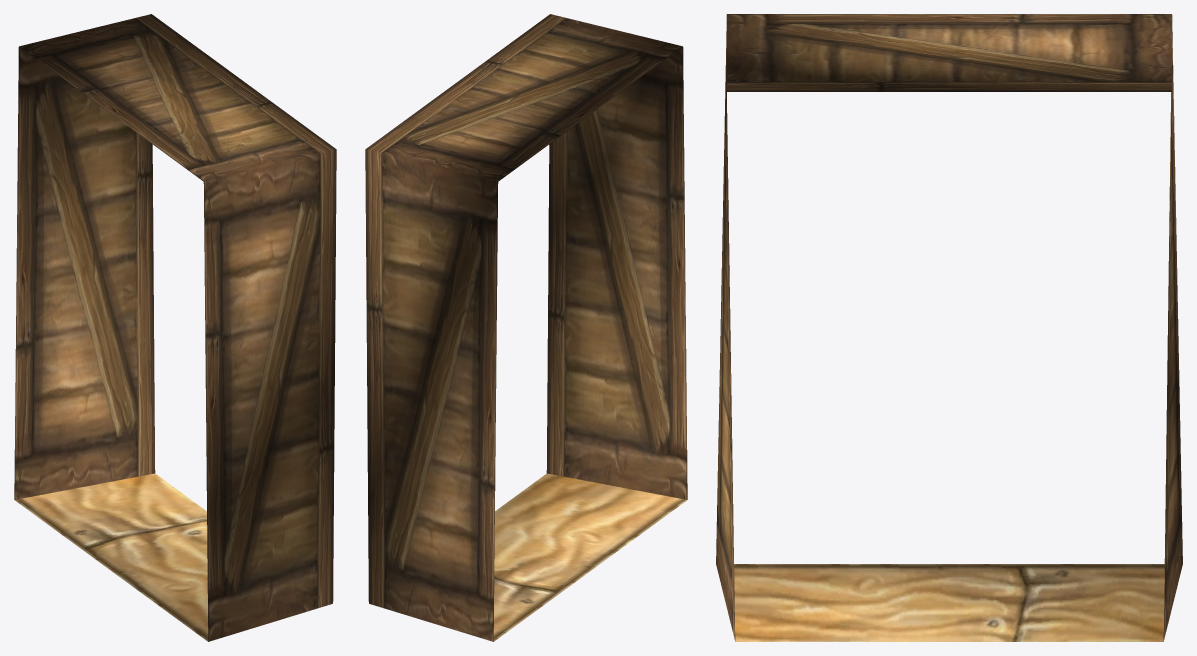
The model's file is stormwind_212.fbx.
The picture shows the model from 3 angles, left to right: view 1: azimuth 30°, elevation 25°; view 2: azimuth 150°, elevation 25°; view 3: azimuth 270°, elevation 25°; orthographic projection. The views are drawn at different scales.
Visible parts, largest first — view 1: stormwind_212_56, stormwind_212_53; view 2: stormwind_212_56, stormwind_212_53; view 3: stormwind_212_56, stormwind_212_53.
Boxes of the visible parts, <box> form: stormwind_212_56: <box>14,14,336,641</box>; stormwind_212_53: <box>15,473,208,641</box>; stormwind_212_56: <box>365,14,687,641</box>; stormwind_212_53: <box>493,473,686,641</box>; stormwind_212_56: <box>716,14,1182,641</box>; stormwind_212_53: <box>734,564,1164,641</box>.
Size of the model in its own units: 1.39 by 4.56 by 3.51.
